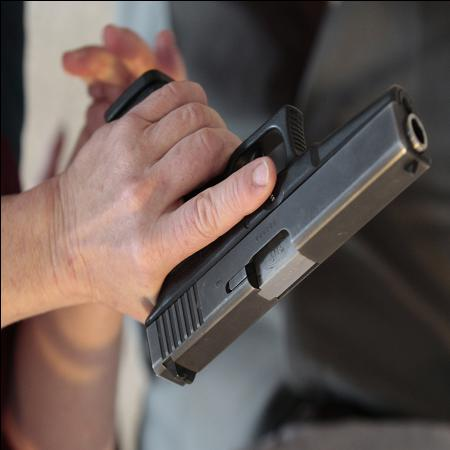Pistol: (96, 66, 432, 388)
